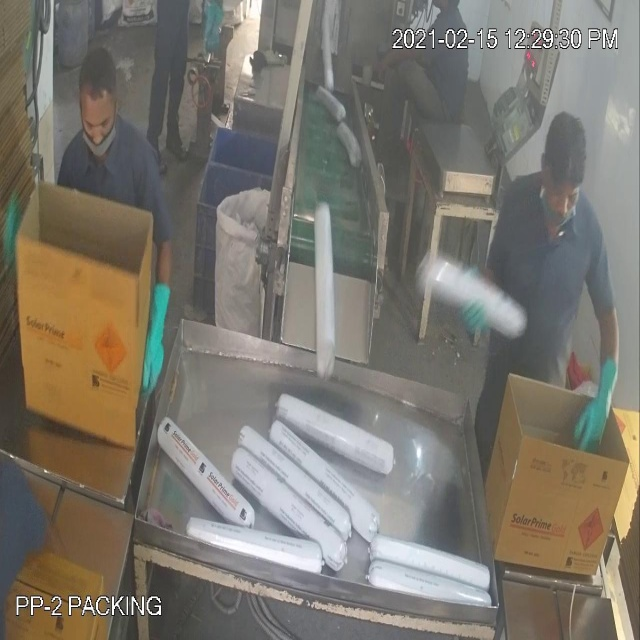Guantes: (129, 257, 180, 419), (568, 348, 633, 461)
